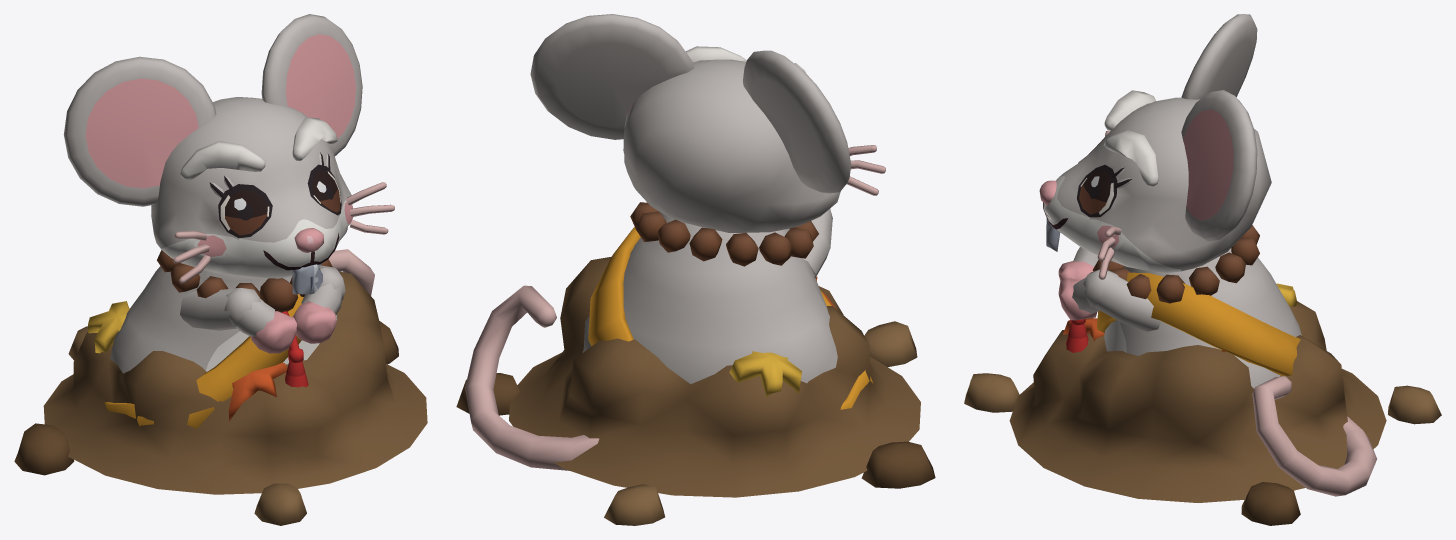
File: tesso_elder.glb
3 renders of one model, left to right at view 1: azimuth 30°, elevation 25°; view 2: azimuth 150°, elevation 25°; view 3: azimuth 270°, elevation 25°, orthographic. The views are drawn at different scales.
Visible parts, largest first — view 1: head, mound, body, paws; view 2: mound, head, body; view 3: mound, head, body, paws.
Boxes of the visible parts, x1,y1,x2,y2 form: head: (63,14,394,294); mound: (14,271,427,525); body: (104,249,374,428); paws: (224,267,345,353); mound: (456,256,935,525); head: (530,14,885,232); body: (465,202,873,470); mound: (964,283,1441,525); head: (1039,14,1271,279); body: (1066,225,1376,496); paws: (1058,247,1118,320).
Bounding box in the file's own units: 0.9855 × 0.8681 × 1.
